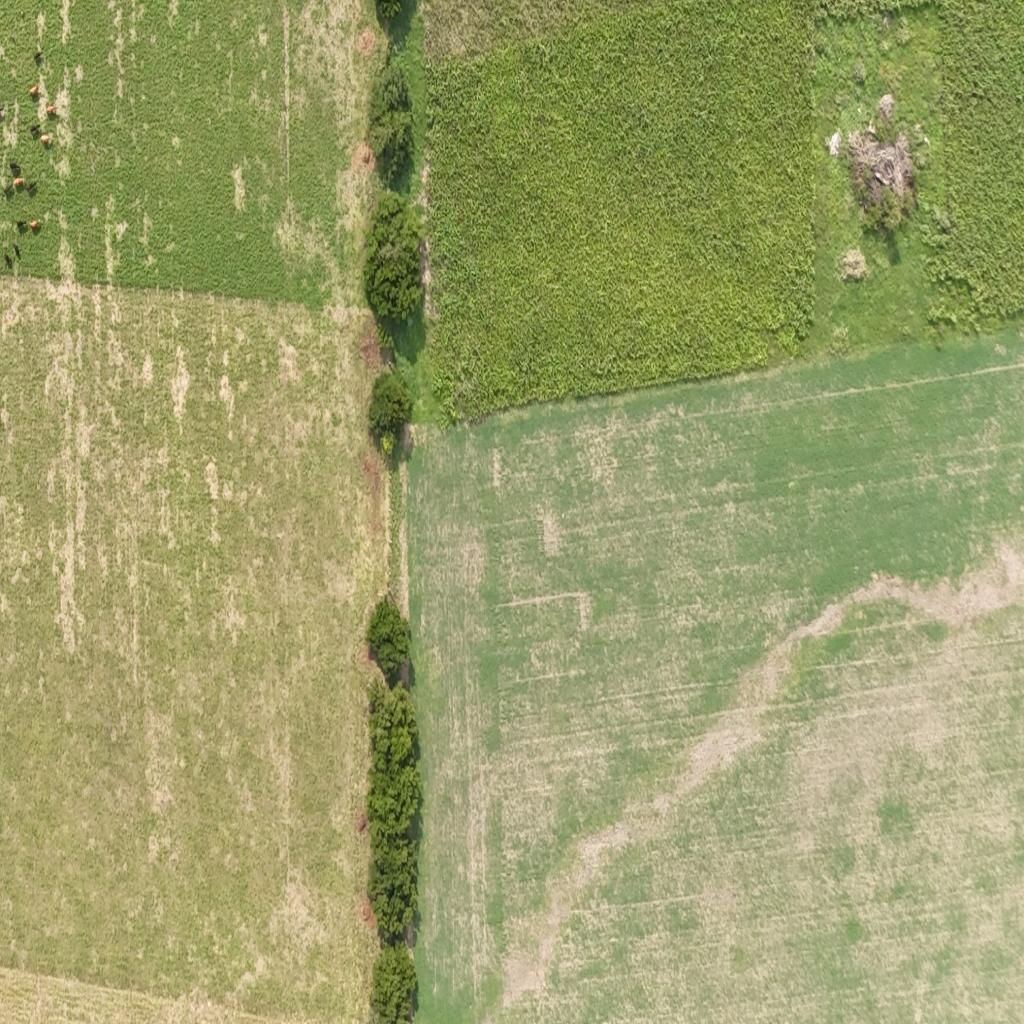cow: (2, 183, 13, 199), (30, 124, 42, 138), (10, 160, 20, 176), (0, 105, 8, 124), (4, 253, 13, 269), (27, 181, 37, 195), (41, 134, 52, 146), (13, 242, 21, 258), (14, 177, 25, 188), (17, 220, 27, 232), (34, 52, 43, 65), (46, 104, 56, 115), (29, 85, 39, 96), (29, 220, 39, 230)
